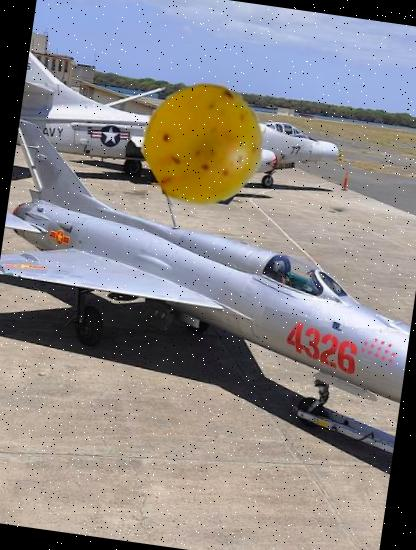Grape: (138, 77, 272, 211)
